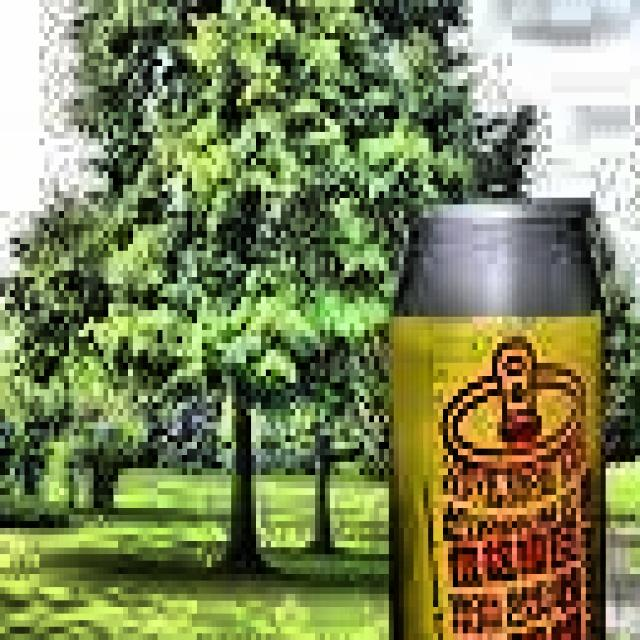metal: (379, 178, 615, 640)
